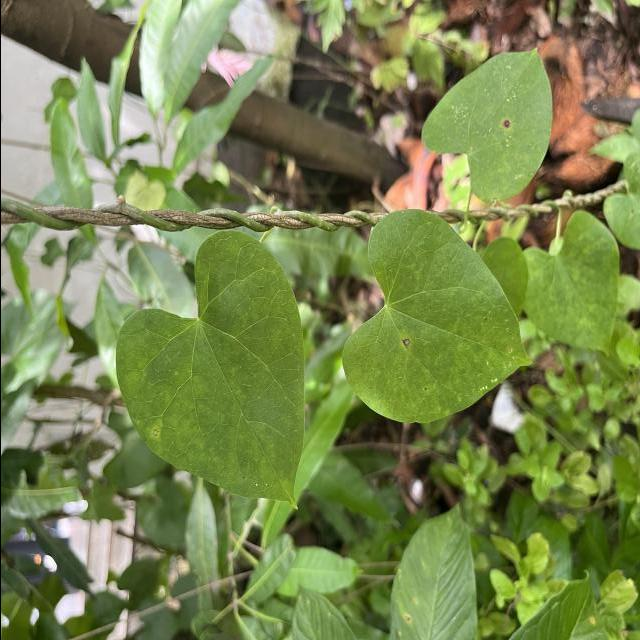Tinospora cordifolia: (112, 226, 308, 516), (337, 204, 534, 428), (417, 42, 554, 205)
